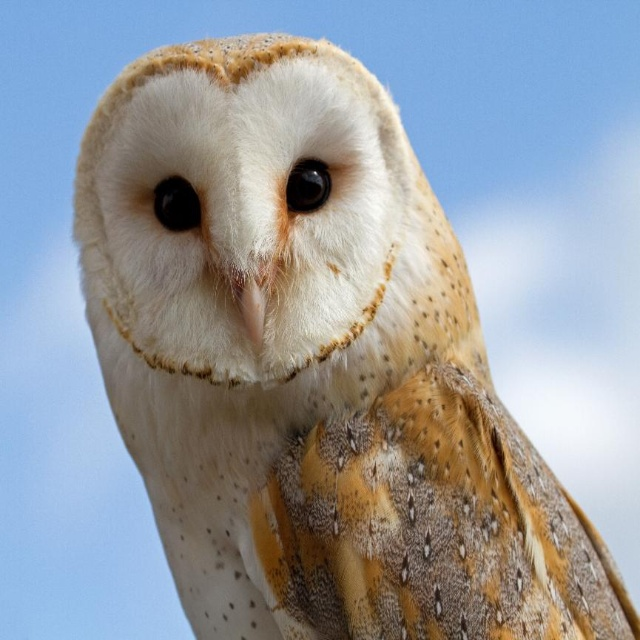Owl: (67, 32, 640, 640)
